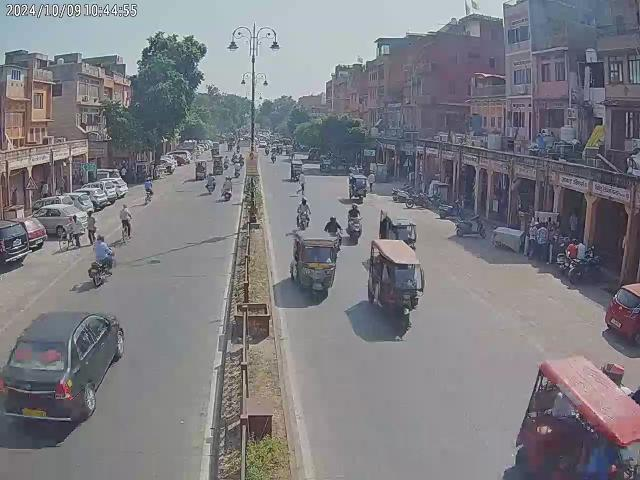auto: (500, 352, 640, 480), (364, 237, 426, 331), (291, 228, 338, 300), (346, 172, 368, 202), (194, 160, 206, 180)
bicycle-rider: (59, 213, 83, 250), (118, 205, 133, 244), (142, 177, 158, 205)
car: (0, 309, 124, 429), (0, 217, 43, 267), (606, 284, 640, 346), (39, 197, 86, 239), (70, 186, 112, 210)
motorbike: (570, 254, 602, 284), (406, 192, 428, 208)
motorbike-rider: (90, 234, 116, 286), (296, 197, 314, 230), (324, 216, 342, 248), (206, 171, 218, 193)
person: (84, 212, 98, 246)
scooty: (456, 214, 488, 238), (440, 198, 464, 218)
scooty-rider: (346, 204, 363, 243), (221, 176, 233, 202)
